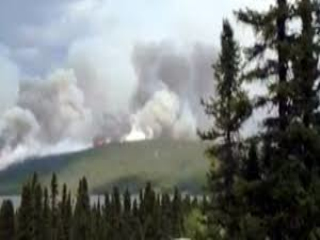smoke: (88, 37, 215, 149), (4, 63, 90, 162)
